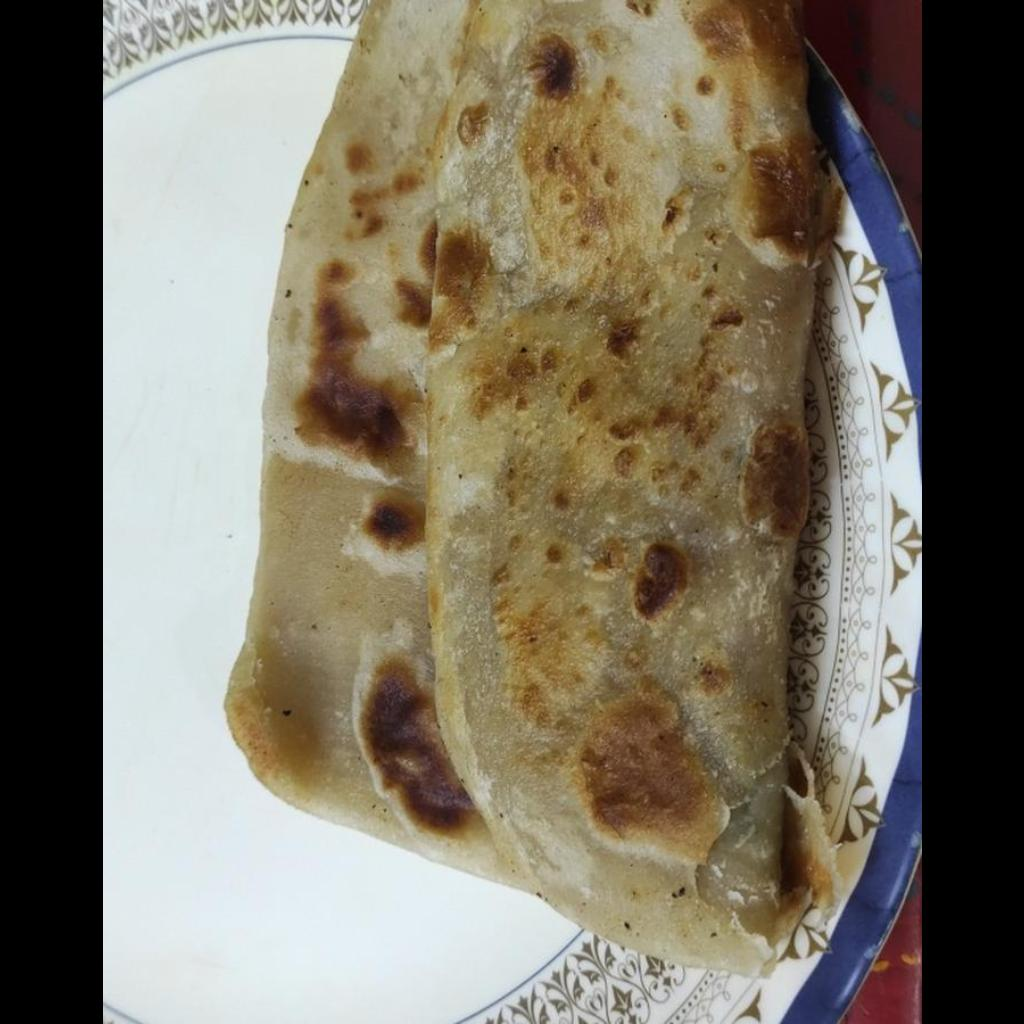ruti: (225, 0, 842, 981)
